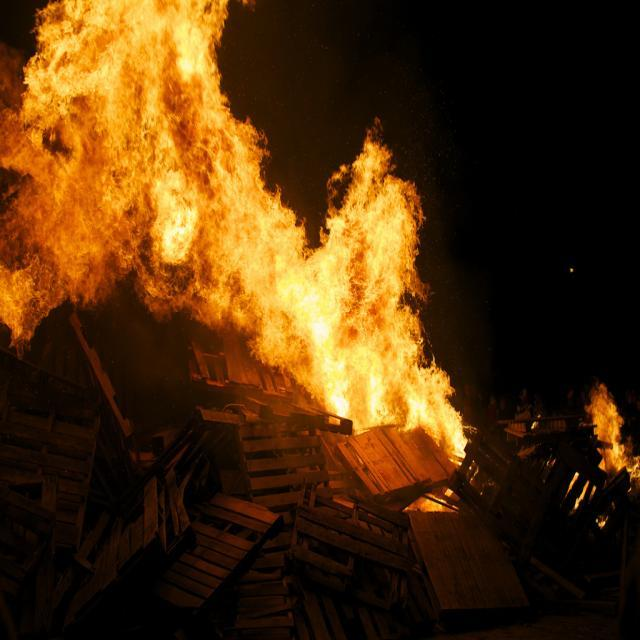Fire: (60, 9, 206, 178), (330, 223, 413, 411), (214, 225, 300, 311)
